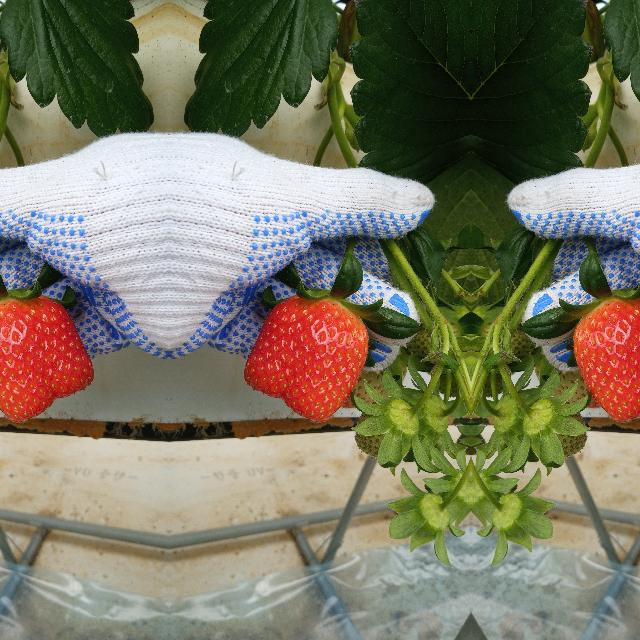Health_100: (242, 294, 368, 424), (0, 294, 94, 423), (573, 294, 640, 423)
